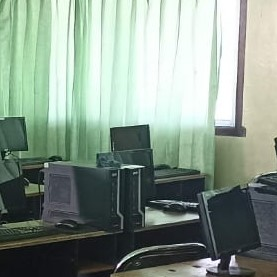monitor: (110, 124, 200, 182), (197, 183, 261, 261), (110, 124, 156, 200), (239, 172, 277, 260), (110, 124, 151, 152), (0, 117, 28, 153)
